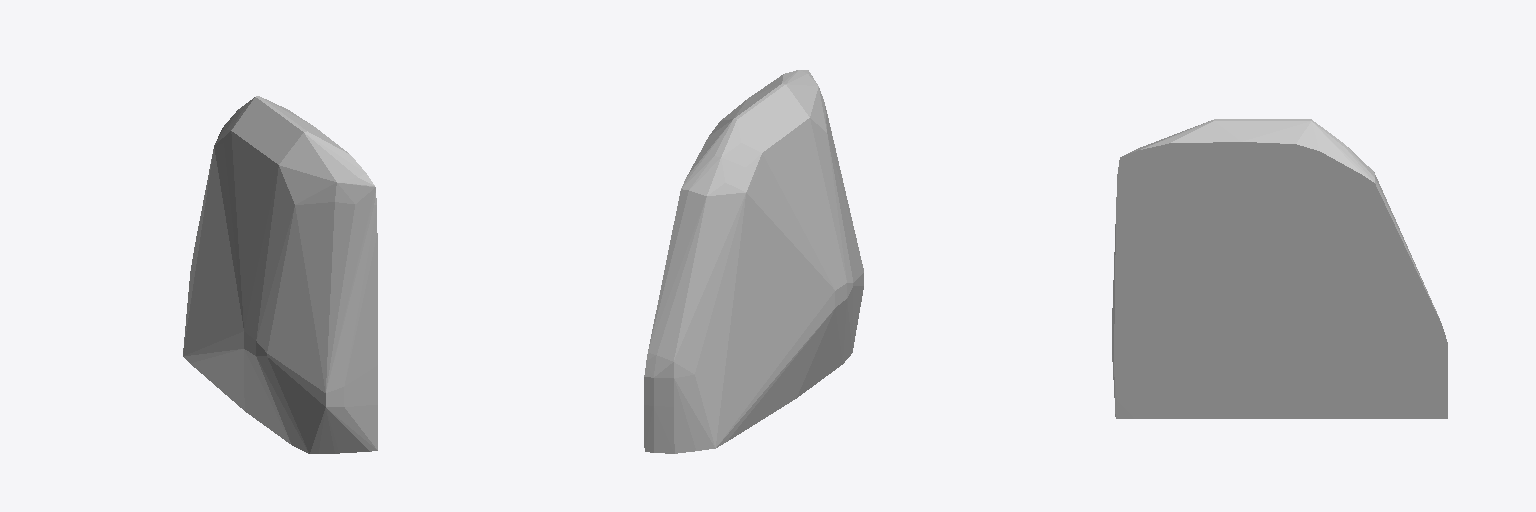
Rendered from ShipScene_collision_47.obj.
The picture shows the model from 3 angles: view 1: azimuth 30°, elevation 25°; view 2: azimuth 150°, elevation 25°; view 3: azimuth 270°, elevation 25°; orthographic projection.
Bounding box in the file's own units: 14.91 × 51.75 × 54.76.